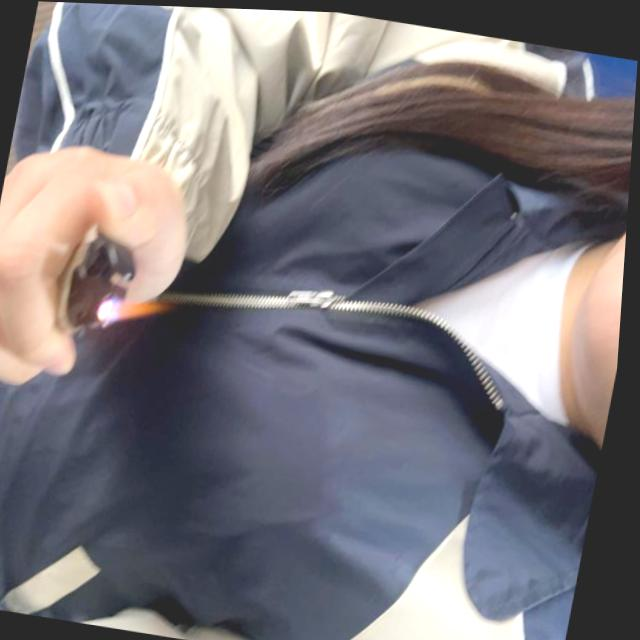helmet: (106, 290, 167, 331)
